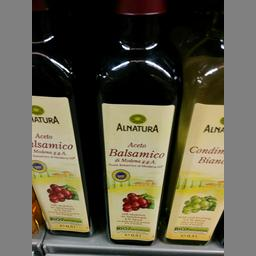vinegar: (100, 0, 182, 249), (31, 1, 103, 238), (160, 17, 223, 242)
